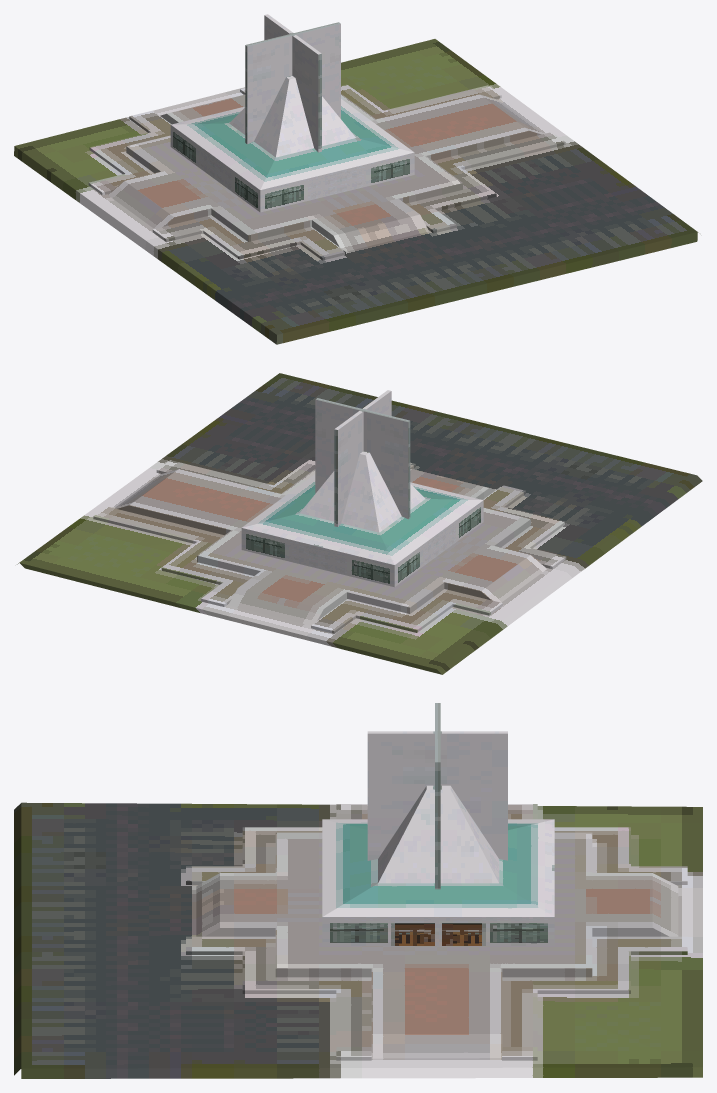
The model's file is lod_sfs068.obj.
3 views of the same model, one above another, from view 1: azimuth 30°, elevation 25°; view 2: azimuth 150°, elevation 25°; view 3: azimuth 270°, elevation 25° (orthographic). The views are drawn at different scales.
Visible parts, largest first — view 1: LOD_sfs068; view 2: LOD_sfs068; view 3: LOD_sfs068.
Part boxes in pixels (x1,y1,x2,y2): LOD_sfs068: (14,14,698,344); LOD_sfs068: (17,373,702,674); LOD_sfs068: (14,703,702,1078).
Size of the model in its own units: 84.77 by 28.38 by 90.8.
4 materials, 4 textured.
